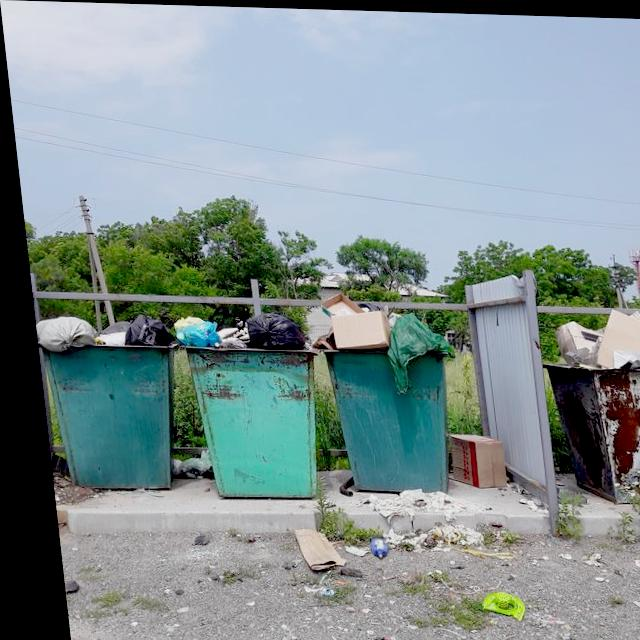Trash_Can_Full: (306, 292, 458, 496), (27, 310, 185, 491), (172, 309, 322, 499)
